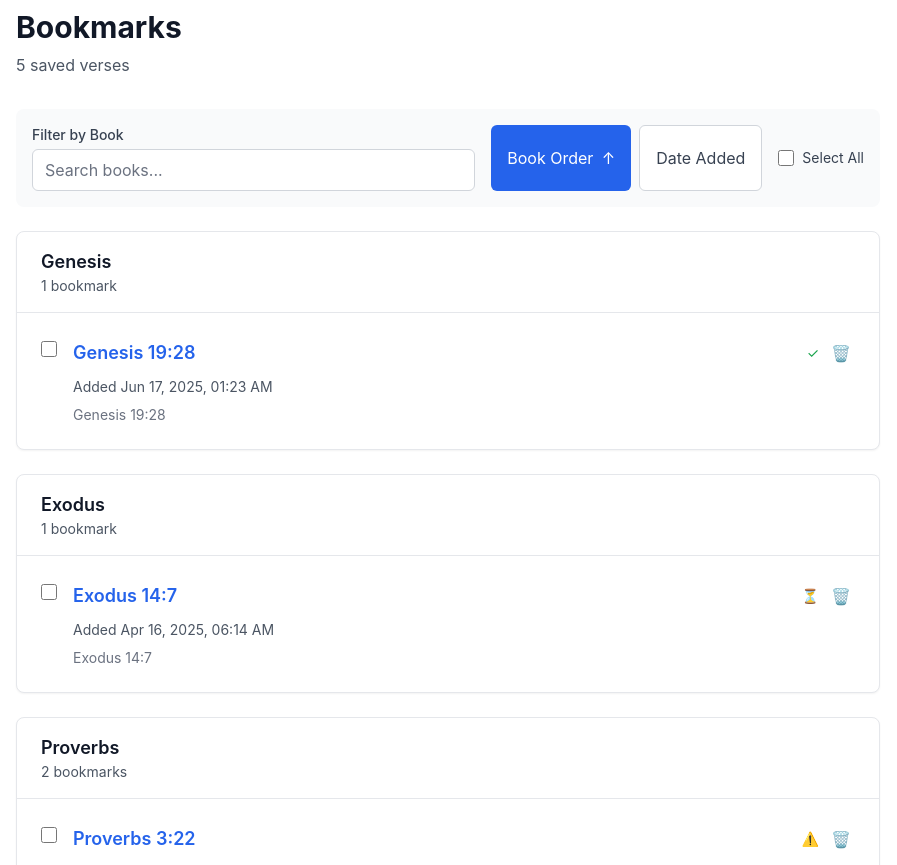
Test case: BookmarksView › Filtering Functionality › clears filter when clear button is clicked
In the field with placeholder "Search books...": (254, 170) [32,149,475,191], type "Genesis"
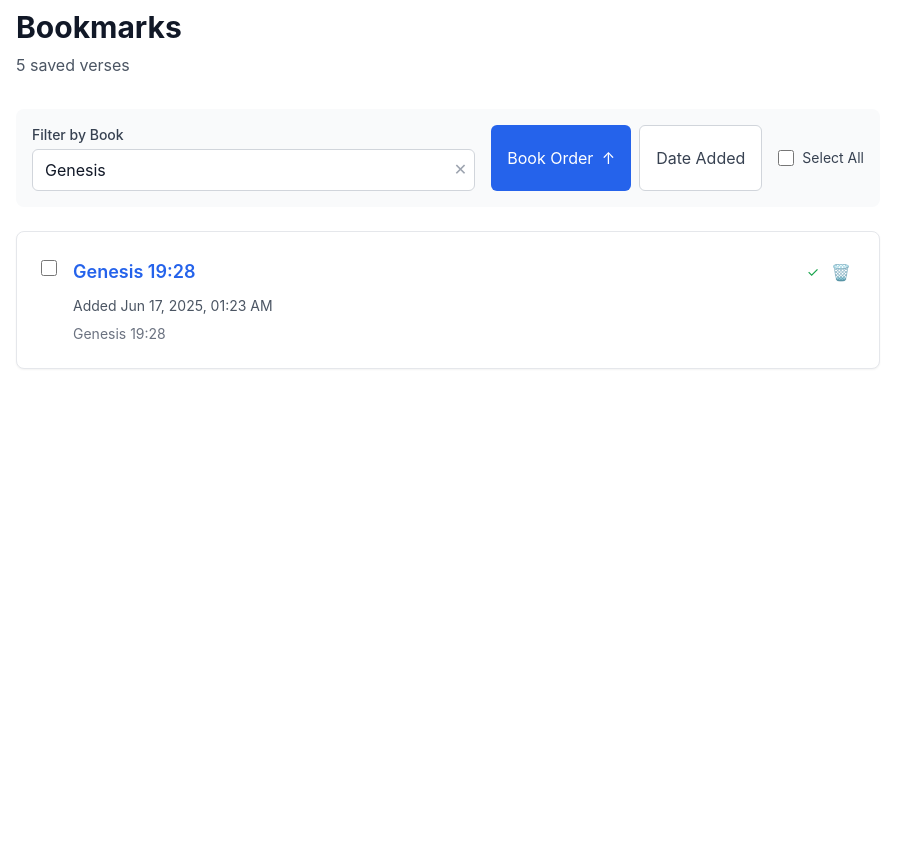
Click the button "✕": (460, 169) [454,157,467,181]
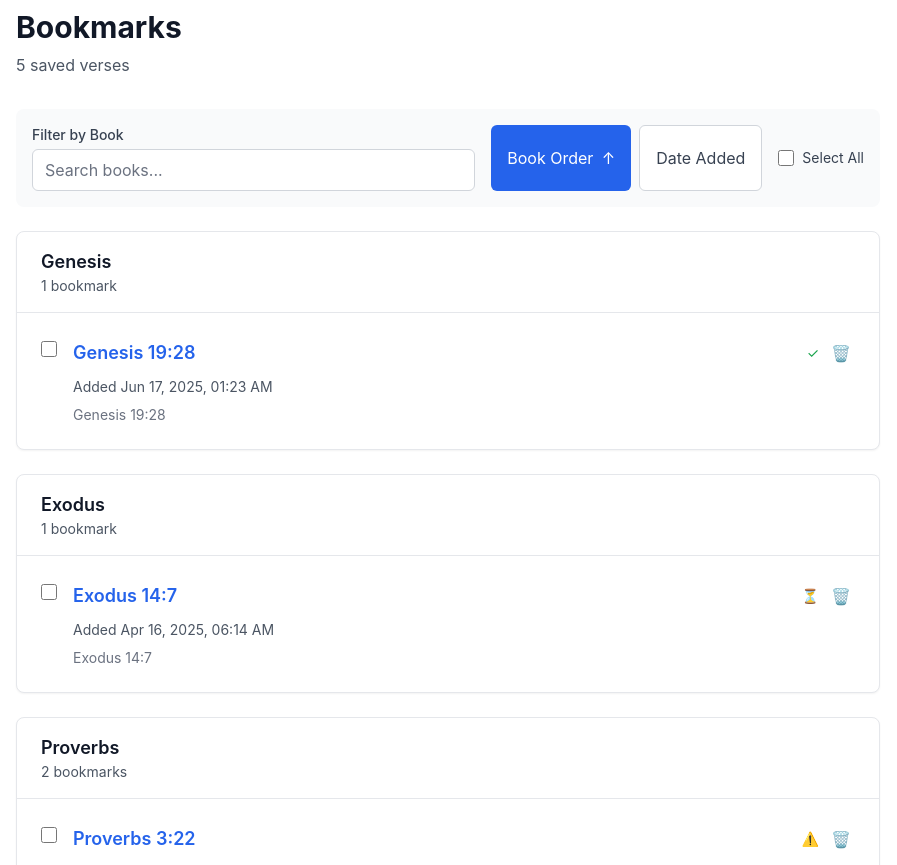
Now the field with placeholder "Search books..." is empty, box [32,149,475,191]
